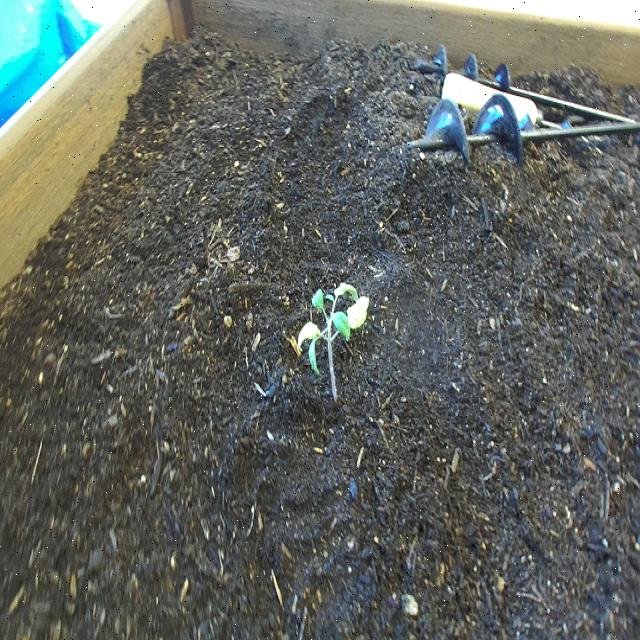Healthy: (296, 276, 375, 406)
